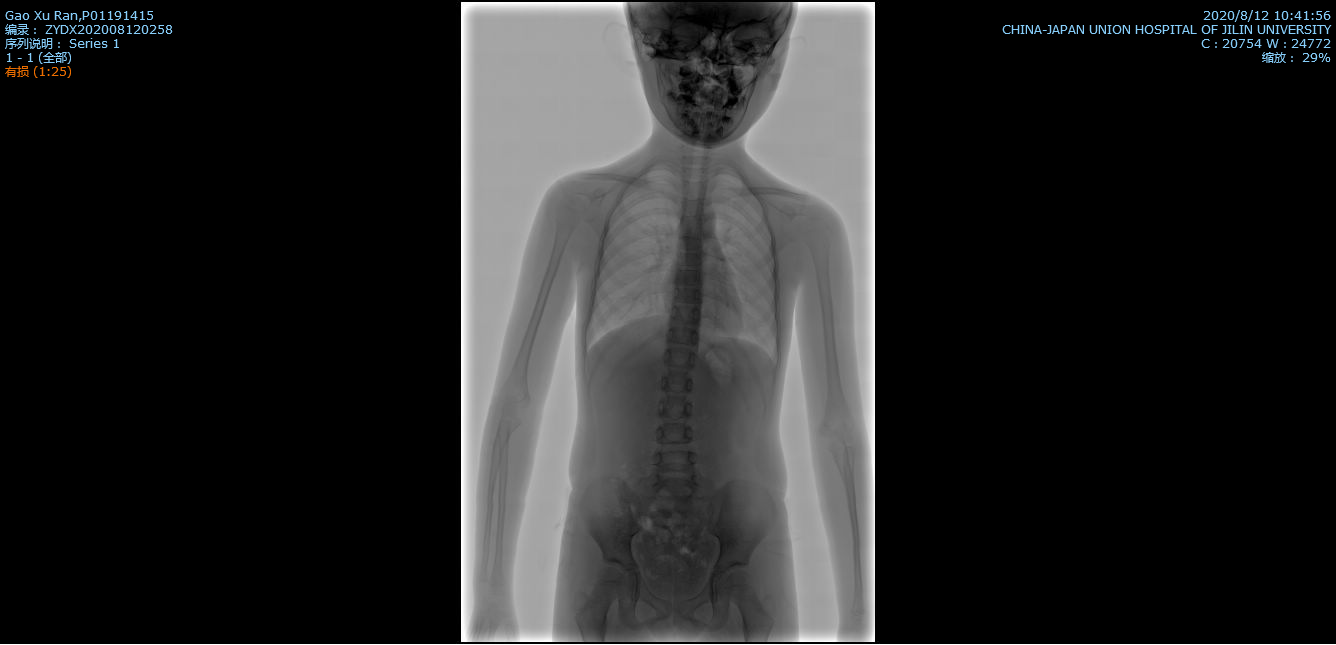胸10椎体: (670, 304, 699, 321)
胸11椎体: (667, 327, 696, 341)
胸12椎体: (666, 347, 694, 365)
胸2椎体: (682, 169, 707, 179)
胸3椎体: (683, 181, 706, 192)
胸4椎体: (682, 197, 704, 210)
胸5椎体: (680, 214, 703, 227)
胸6椎体: (680, 233, 702, 246)
胸7椎体: (678, 251, 702, 264)
胸8椎体: (674, 267, 702, 283)
胸9椎体: (672, 286, 701, 301)
腰1椎体: (661, 371, 691, 391)
腰2椎体: (660, 399, 690, 417)
腰3椎体: (657, 424, 691, 444)
腰4椎体: (654, 451, 693, 470)
腰5椎体: (655, 475, 694, 495)
